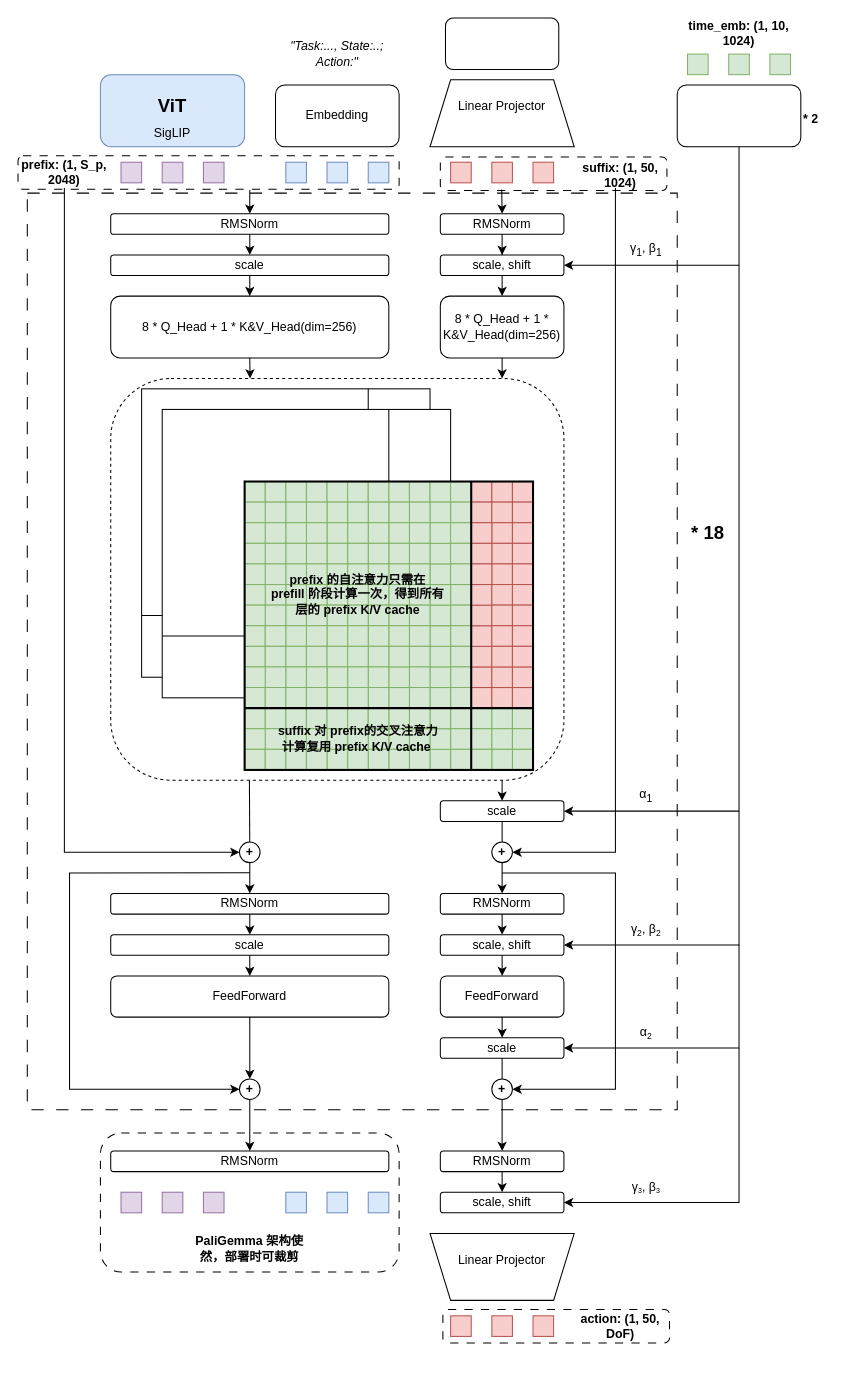
The diagram is 860 pixels wide and 1375 high, and some of its shapes have lost their labels. Here are the shapes that lost their labels. From the top down, the centre of each, then its label:
At [501,43]: "N(0, I)".
At [738,115]: "Linear + Swish".
